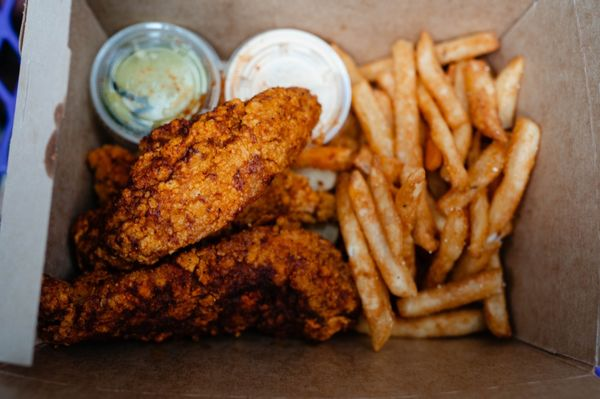sushi: (88, 22, 223, 148), (224, 29, 355, 152)
